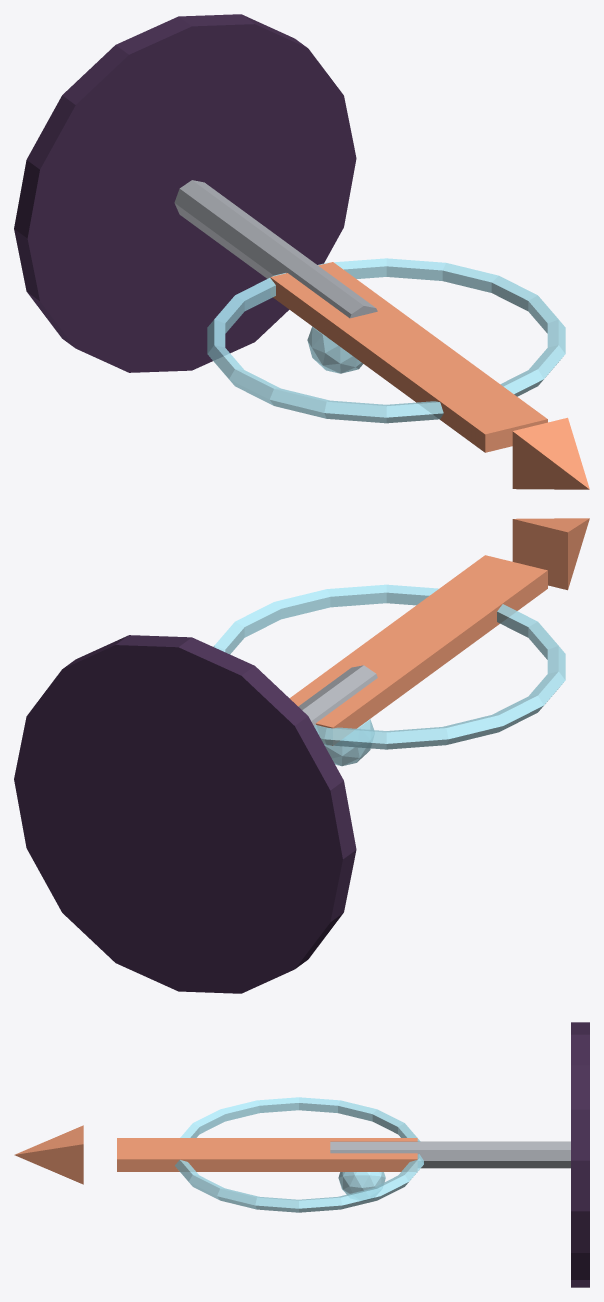
Rendered from 04_high_tier_magic_weapon_aura.glb.
3 renders of one model, top to bottom at view 1: azimuth 30°, elevation 25°; view 2: azimuth 150°, elevation 25°; view 3: azimuth 270°, elevation 25°, orthographic. The views are drawn at different scales.
Visible parts, largest first — view 1: weapon_display_base, magic_blade_core, weapon_enchant_orbit, weapon_grip, magic_blade_tip, weapon_gem; view 2: weapon_display_base, magic_blade_core, weapon_enchant_orbit, magic_blade_tip, weapon_grip, weapon_gem; view 3: magic_blade_core, weapon_enchant_orbit, weapon_grip, weapon_display_base, magic_blade_tip, weapon_gem.
Boxes of the visible parts, x1,y1,x2,y2 form: weapon_display_base: [14, 14, 356, 372]; magic_blade_core: [270, 262, 547, 452]; weapon_enchant_orbit: [207, 258, 565, 423]; weapon_grip: [174, 180, 377, 318]; magic_blade_tip: [512, 417, 589, 489]; weapon_gem: [307, 326, 363, 373]; weapon_display_base: [14, 635, 356, 993]; magic_blade_core: [289, 555, 547, 745]; weapon_enchant_orbit: [213, 584, 565, 749]; magic_blade_tip: [512, 518, 589, 590]; weapon_grip: [298, 665, 377, 733]; weapon_gem: [324, 719, 373, 766]; magic_blade_core: [117, 1138, 417, 1171]; weapon_enchant_orbit: [175, 1097, 423, 1212]; weapon_grip: [330, 1141, 570, 1168]; weapon_display_base: [571, 1022, 589, 1287]; magic_blade_tip: [14, 1125, 83, 1184]; weapon_gem: [338, 1172, 385, 1194].
Size of the model in its own units: 0.84 by 0.84 by 1.82.
